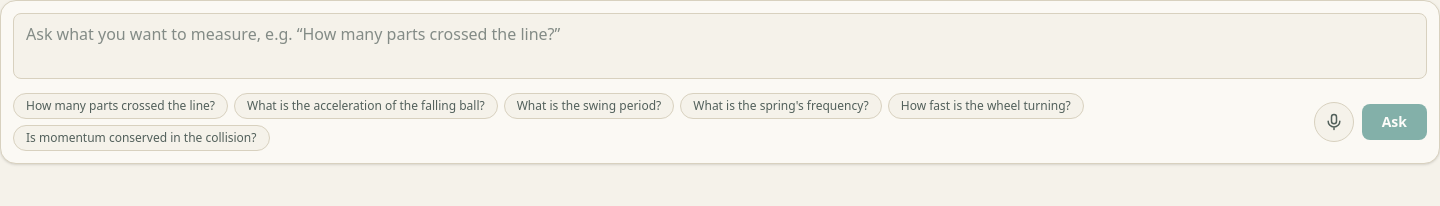
voice input › records, sends the audio, and puts the words in the box without asking
Click the button named "Speak your question" at [1334, 122], box [1314,102,1354,142]
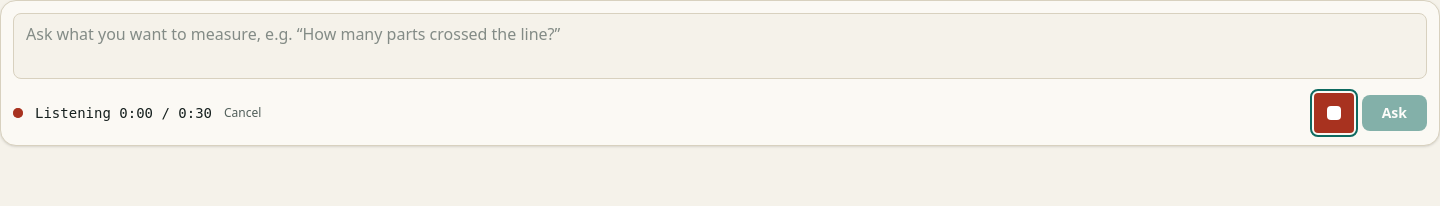
Expected: the button "Ask" is disabled, [1362,95,1427,131]
Now the button named "Stop recording" is shown
Click the button named "Stop recording" at [1334, 113], box [1314,93,1354,133]
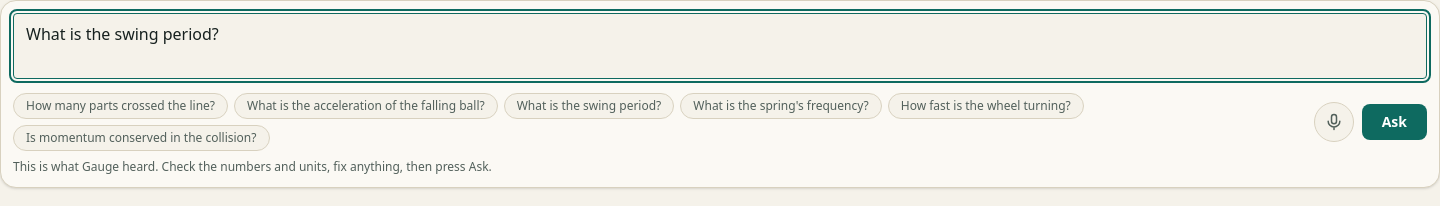
Now the text box holds "What is the swing period?", box [13,13,1427,79]
Now the text "Check the numbers and units" is shown, box [13,158,492,175]
